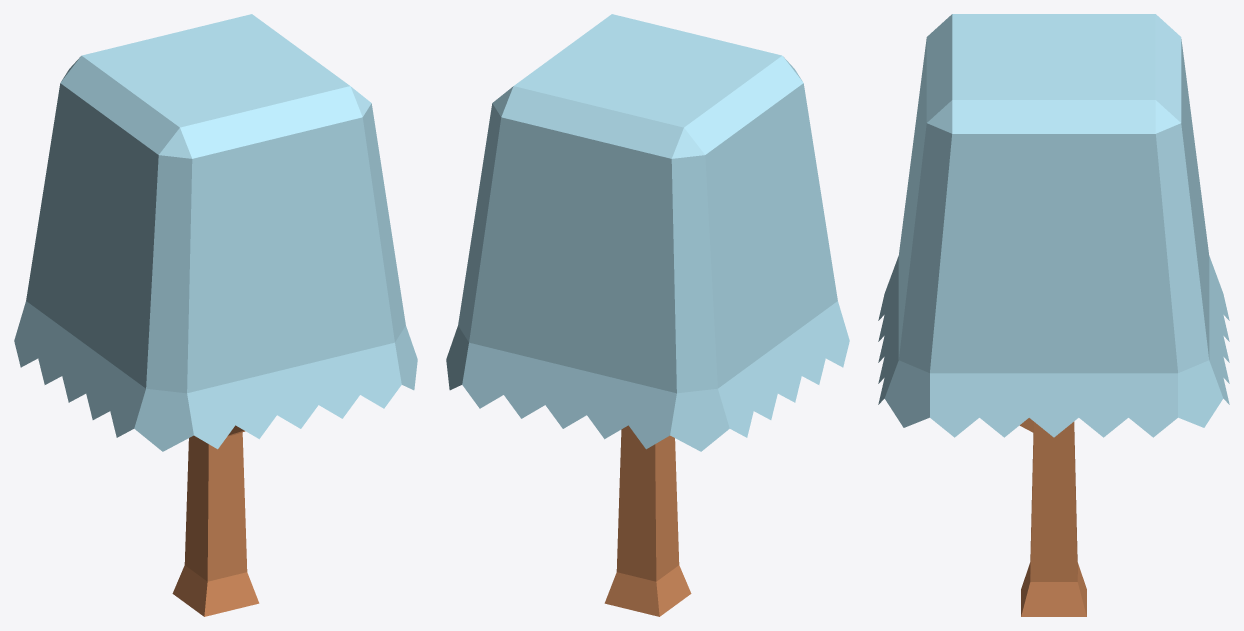
Rendered from d_kenney_arbre_neige.glb.
3 renders of one model, left to right at view 1: azimuth 30°, elevation 25°; view 2: azimuth 150°, elevation 25°; view 3: azimuth 270°, elevation 25°, orthographic. The views are drawn at different scales.
Parts seen in each view (by area): view 1: d_kenney_arbre_neige; view 2: d_kenney_arbre_neige; view 3: d_kenney_arbre_neige.
Boxes of the visible parts, box(x1,y1,x2,y2) form: d_kenney_arbre_neige: box(14, 14, 417, 616); d_kenney_arbre_neige: box(446, 14, 849, 616); d_kenney_arbre_neige: box(878, 14, 1229, 616).
Bounding box in the file's own units: 1.13 × 1.94 × 1.13.
1 material, 1 textured.
